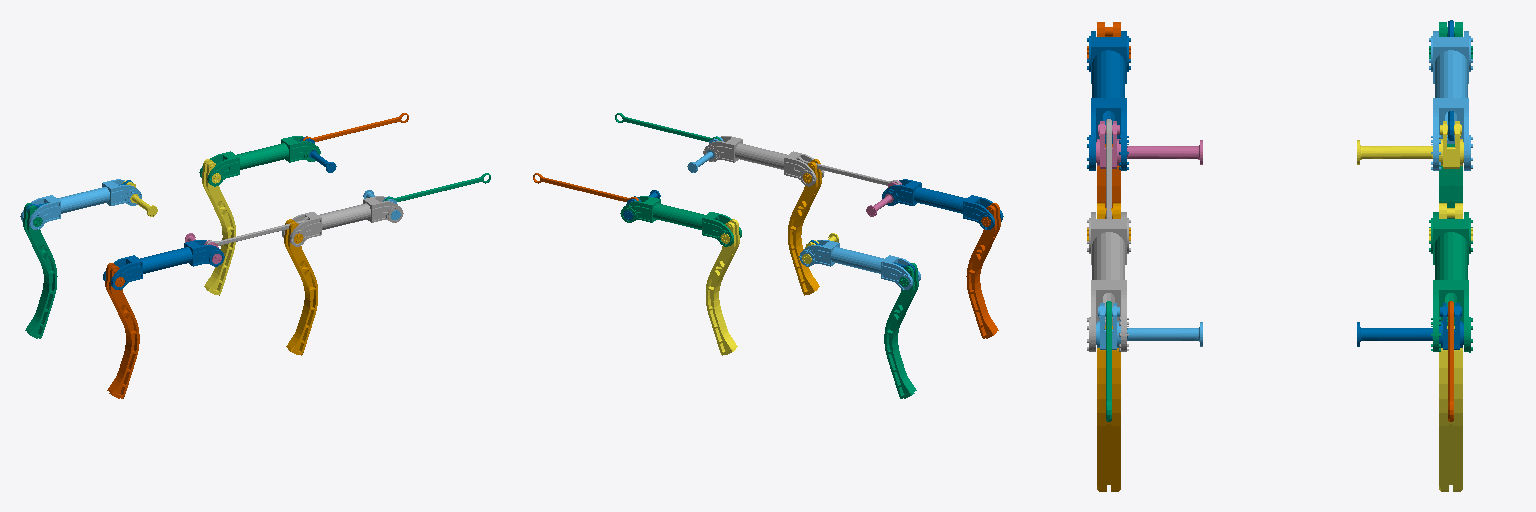
--- What the picture shows (computed from the rendered views, not written in the file) ---
The picture shows the robot from 3 angles, left to right: view 1: azimuth 30°, elevation 25°; view 2: azimuth 150°, elevation 25°; view 3: azimuth 270°, elevation 25°; orthographic projection.
Robot: aidinviii — 21 links, 20 joints (20 revolute); root link aidinviii_body; default pose: every joint at zero.
Links seen in each view (by area): view 1: RB_Hip, LF_Hip, RF_Hip, LB_Hip, RB_Knee, LB_Knee, RF_Knee, LF_Knee; view 2: LF_Hip, RB_Hip, LB_Hip, RF_Hip, RB_Knee, LF_Knee, LB_Knee, RF_Knee; view 3: LF_Hip, RB_Hip, RF_Hip, LB_Hip, LF_Knee, RF_Knee, LB_link1, RB_link1, LF_link1, RF_link1, LB_Knee, RB_Knee (+3 smaller).
Link boxes in pixels (left/top/right/bottom): RB_Hip: left=103, top=240, right=224, bottom=289; LF_Hip: left=199, top=136, right=320, bottom=186; RF_Hip: left=282, top=196, right=403, bottom=246; LB_Hip: left=20, top=179, right=141, bottom=229; RB_Knee: left=105, top=263, right=139, bottom=398; LB_Knee: left=23, top=203, right=57, bottom=338; RF_Knee: left=284, top=219, right=317, bottom=355; LF_Knee: left=202, top=159, right=235, bottom=295; LF_Hip: left=620, top=196, right=741, bottom=246; RB_Hip: left=882, top=179, right=1003, bottom=229; LB_Hip: left=799, top=240, right=920, bottom=289; RF_Hip: left=703, top=136, right=824, bottom=186; RB_Knee: left=966, top=203, right=1000, bottom=338; LF_Knee: left=706, top=219, right=739, bottom=355; LB_Knee: left=884, top=263, right=918, bottom=398; RF_Knee: left=788, top=159, right=821, bottom=295; LF_Hip: left=1429, top=212, right=1472, bottom=352; RB_Hip: left=1087, top=31, right=1130, bottom=170; RF_Hip: left=1087, top=212, right=1130, bottom=351; LB_Hip: left=1429, top=31, right=1472, bottom=170; LF_Knee: left=1429, top=203, right=1472, bottom=491; RF_Knee: left=1087, top=203, right=1130, bottom=491; LB_link1: left=1357, top=121, right=1463, bottom=168; RB_link1: left=1096, top=121, right=1202, bottom=168; LF_link1: left=1357, top=303, right=1463, bottom=349; RF_link1: left=1096, top=303, right=1202, bottom=349; LB_Knee: left=1429, top=22, right=1472, bottom=218; RB_Knee: left=1087, top=22, right=1130, bottom=218.
Size in the robot's own frame: 1.38 by 0.5794 by 0.4649 metres.
Meshes: 11 distinct files referenced, 16 mesh visuals loaded (6 binary STL); not drawn: 5 (reference not matched to a file when rendering).

URDF robot description (aidinviii):
<?xml version="1.0" ?>
<robot name="aidinviii">

  <!-- <link name="world"/> -->

<!--//////////////////////////////////////////L I N K S////////////////////////////////////////////////////-->
<!--/////////////////////////////////////////////Body/////////////////////////////////////////////////-->
  <link name="aidinviii_body">
    <inertial>
      <mass value="12.3188555"/>
      <origin xyz="0.00142 -0.00222 -0.04319" rpy="0 0 0"/>
      <inertia ixx="0.1104557116459" ixy="0.0002742627834" ixz="-0.0007826805716" iyy="0.2925866863396" iyz="-0.0018014327089" izz="0.3259809298915"/>
    </inertial>
    <collision name="body_1">
      <origin xyz="0.4174 0     1" rpy="0 0 0"/>
      <geometry>
        <box size="0.026 0.318 0.207"/>
      </geometry>
    </collision>
    <collision name="body_2">
      <origin xyz="-0.4174  0      1" rpy="0 0 0"/>
      <geometry>
        <box size="0.026 0.318 0.207"/>
      </geometry>
    </collision>
    <collision name="body_3">
      <origin xyz="0    0.119 1.085" rpy="0      1.57079 0"/>
      <geometry>
        <cylinder radius="0.0102" length="0.8848"/>
      </geometry>
    </collision>
    <collision name="body_4">
      <origin xyz="0    0.119 0.915" rpy="0      1.57079 0"/>
      <geometry>
        <cylinder radius="0.0102" length="0.8848"/>
      </geometry>
    </collision>
    <collision name="body_5">
      <origin xyz="0    -0.119  1.085" rpy="0      1.57079 0"/>
      <geometry>
        <cylinder radius="0.0102" length="0.8848"/>
      </geometry>
    </collision>
    <collision name="body_6">
      <origin xyz="0    -0.119  0.915" rpy="0      1.57079 0"/>
      <geometry>
        <cylinder radius="0.0102" length="0.8848"/>
      </geometry>
    </collision>
    <visual name="body_visual">
      <origin xyz="0 0 1" rpy="0 0 0"/>
      <geometry>
        <mesh filename="../meshes/meshes_surface/Body_AIDIN8.STL" scale="1 1 1"/>
      </geometry>
    </visual>
  </link>

<!--//////////////////////////////////////////////LF///////////////////////////////////////////////////////////-->

  <link name="LF_Scapular">
    <inertial>
      <mass value="6.3549628"/>
      <origin xyz="0.00223 -0.00011 -0.03491" rpy="0 0 0"/>
      <inertia ixx="0.0268822823205" ixy="0.0000315138420" ixz="-0.0010398645982" iyy="0.0388571979436" iyz="-0.0000013704590" izz="0.01899889911081"/>
    </inertial>
    <collision name="LF_col1">
      <origin xyz="0      0     -0.0507" rpy="0 0 0"/>
      <geometry>
        <cylinder length="0.2334" radius="0.0535"/>
      </geometry>
    </collision>
    <collision name="LF_col2">
      <origin rpy="0       1.57079  0" xyz="0.0083  0      0"/>
      <geometry>
        <cylinder length="0.1984" radius="0.0535"/>
      </geometry>
    </collision>
    <visual name="LF_vis11">
      <origin rpy="0  0  0" xyz="0  0  0"/>
      <geometry>
        <mesh filename="../meshes/meshes_surface/Leg_Scapular_LF_stp_v2.STL" scale="1 1 1"/>
      </geometry>
    </visual>
  </link>

  <link name="LF_Hip">
    <inertial>
      <mass value="0.8592967"/>
      <origin xyz="1.7531e-01 -1.4970e-02 -1.2000e-04" rpy="0 0 0"/>
      <inertia ixx="0.0007326198857" ixy="0.0000038940144" ixz="0.0000188178556" iyy="0.0157450190446" iyz="-0.0000015777889" izz="0.0157308802467"/>
    </inertial>
    <collision name="LF2_col1">
      <origin rpy="0  0  0" xyz="0  0  0"/>
      <geometry>
        <cylinder length="0.054" radius="0.027"/>
      </geometry>
    </collision>
    <collision name="LF2_col2">
      <origin rpy="0  0  0" xyz="0.055 -0.021  0"/>
      <geometry>
        <box size="0.06 0.06 0.054"/>
      </geometry>
    </collision>
    <collision name="LF2_col3">
      <origin rpy="0       1.57079  0" xyz="0.175 -0.021  0"/>
      <geometry>
        <cylinder length="0.18" radius="0.025"/>
      </geometry>
    </collision>
    <collision name="LF2_col4">
      <origin rpy="0  0  0" xyz="0.295 -0.021  0"/>
      <geometry>
        <box size="0.06 0.06 0.054"/>
      </geometry>
    </collision>
    <collision name="LF2_col5">
      <origin rpy="0  0  0" xyz="0.35    0      0.0245"/>
      <geometry>
        <cylinder length="0.011" radius="0.027"/>
      </geometry>
    </collision>
    <collision name="LF2_col6">
      <origin rpy="0  0  0" xyz="0.35    0     -0.0245"/>
      <geometry>
        <cylinder length="0.011" radius="0.027"/>
      </geometry>
    </collision>
    <visual name="LF2_vis11">
      <origin rpy="0  0  0" xyz="0  0  0"/>
      <geometry>
        <mesh filename="../meshes/meshes_surface/Leg_Hip_left_stp.STL" scale="1 1 1"/>
      </geometry>
    </visual>
  </link>

  <link name="LF_Knee">
    <inertial>
      <mass value="0.6608339"/>
      <origin xyz="0.12972 0.01155 0" rpy="0 0 0"/>
      <inertia ixx="0.0004751764324" ixy="0.0012723021758" ixz="-0.0000000145887" iyy="0.0121223799746" iyz="-0.0000000021118" izz="0.0123849356151"/>
    </inertial>
    <!-- <collision name="LF3_col1">
      <origin rpy="0  0  0" xyz="0  0  0"/>
      <geometry>
        <cylinder length="0.03" radius="0.02"/>
      </geometry>
    </collision>
    <collision name="LF3_col3">
      <origin rpy="0       0       0.41887" xyz="0.10075  0.02555  0"/>
      <geometry>
        <box size="0.17 0.035 0.036"/>
      </geometry>
    </collision>
    <collision name="LF3_col4">
      <origin rpy="0       0       0.05925" xyz="0.21091  0.0609   0"/>
      <geometry>
        <box size="0.0771692 0.035 0.036"/>
      </geometry>
    </collision>
    <collision name="LF3_col5">
      <origin rpy="0       0      -0.34906" xyz="0.32234  0.03518  0"/>
      <geometry>
        <box size="0.17 0.035 0.036"/>
      </geometry>
    </collision> -->
    <collision name="LF3_col6">
      <origin rpy="0  0  0" xyz="0.4  0   0"/>
      <!-- <geometry>
        <sphere radius="0.024"/>
      </geometry> -->
      <geometry>
        <cylinder length="0.036" radius="0.024"/>
      </geometry>
    </collision>
    <visual name="LF3_vis11">
      <origin rpy="0  0  0" xyz="0  0  0"/>
      <geometry>
        <mesh filename="../meshes/meshes_surface/Leg_Knee_stp.STL" scale="1 1 1"/>
      </geometry>
    </visual>
  </link>

  <link name="LF_link1">
    <inertial>
      <mass value="0.356529"/>
      <origin xyz="0.00728 -0.00049  0.03154" rpy="0 0 0"/>
      <inertia ixx="0.0009733125313" ixy="0.0000022519068" ixz="-0.0000814612402" iyy="0.0010405526310" iyz="0.0000057129200" izz="0.0001182849391"/>
    </inertial>
    <visual name="LF_link1_vis1">
      <origin rpy="0  0  0" xyz="0  0  0"/> 
      <geometry>
        <mesh filename="../meshes/meshes_surface/Knee_link1_left_stp.STL" scale="1 1 1"/>
      </geometry>
    </visual>
  </link>

  <link name="LF_link2">
    <inertial>
      <mass value="0.20931"/>
      <origin rpy="0  0  0" xyz="0.175  0     0"/>
      <inertia ixx="0.00000747991" ixy="0" ixz="0" iyy="0.00238918720" iyz="0" izz="0.00239407889"/>
    </inertial>
    <visual name="LF_link2_vis1">
      <origin xyz="-0.35  0    0" rpy="0 0 0"/>
      <geometry>
        <mesh filename="../meshes/meshes_surface/Knee_link2_stp.STL" scale="1 1 1"/>
      </geometry>
    </visual>
  </link>

<!--//////////////////////////////////////////////RF///////////////////////////////////////////////////////////-->
  <link name="RF_Scapular">
    <inertial>
      <mass value="6.3549628"/>
      <origin xyz="2.22e-03 -7.00e-05 -3.49e-02" rpy="0 0 0"/>
      <inertia ixx="0.0268838092963" ixy="-0.0000090031909" ixz="0.0010319405579" iyy="0.0388589753376" iyz="0.0000168509340" izz="0.0189992476926"/>
    </inertial>
    <collision name="RF_col1">
      <origin rpy="0  0  0" xyz="0      0     -0.0507"/>
      <geometry>
        <cylinder length="0.2334" radius="0.0535"/>
      </geometry>
    </collision>
    <collision name="RF_col2">
      <origin rpy="0       1.57079  0" xyz="0.0083  0      0"/>
      <geometry>
        <cylinder length="0.1984" radius="0.0535"/>
      </geometry>
    </collision>
    <visual name="RF_vis1">
      <origin rpy="0  0  0" xyz="0  0  0"/>
      <geometry>
        <mesh filename="../meshes/meshes_surface/Leg_Scapular_RF_stp_v2.STL" scale="1 1 1"/>
      </geometry>
    </visual>
  </link>
  <link name="RF_Hip">
    <inertial>
      <mass value="0.8592967"/>
      <origin xyz="1.7531e-01 -1.4970e-02  1.2000e-04" rpy="0 0 0"/>
      <inertia ixx="0.0007326198866" ixy="0.0000038940144" ixz="-0.0000188175364" iyy="0.0157450190455" iyz="0.0000015777233" izz="0.0157308802469"/>
    </inertial>
    <collision name="RF2_col1">
      <origin xyz="0.175 0    0" rpy="0      1.57079 0"/>
      <geometry>
        <cylinder radius="0.01" length="0.175"/>
      </geometry>
    </collision>
    <collision name="RF2_col2">
      <origin xyz="0.055 -0.021  0" rpy="0 0 0"/>
      <geometry>
        <box size="0.06 0.06 0.054"/>
      </geometry>
    </collision>
    <collision name="RF2_col3">
      <origin xyz="0.175 -0.021  0" rpy="0      1.57079 0"/>
      <geometry>
        <cylinder radius="0.025" length="0.18"/>
      </geometry>
    </collision>
    <collision name="RF2_col4">
      <origin xyz="0.295 -0.021  0" rpy="0 0 0"/>
      <geometry>
        <box size="0.06 0.06 0.054"/>
      </geometry>
    </collision>
    <collision name="RF2_col5">
      <origin xyz="0.35   0     0.0245" rpy="0 0 0"/>
      <geometry>
        <cylinder radius="0.027" length="0.011"/>
      </geometry>
    </collision>
    <collision name="RF2_col6">
      <origin xyz="0.35    0     -0.0245" rpy="0 0 0"/>
      <geometry>
        <cylinder radius="0.027" length="0.011"/>
      </geometry>
    </collision>
    <visual name="RF2_vis1">
      <origin rpy="0  0  0" xyz="0  0  0"/>
      <geometry>
        <mesh filename="../meshes/meshes_surface/Leg_Hip_right_stp.STL" scale="1 1 1"/>
      </geometry>
    </visual>
  </link>
  <link name="RF_Knee">
    <inertial>
      <mass value="0.6608339"/>
      <origin xyz="0.12972 0.01155 0" rpy="0 0 0"/>
      <inertia ixx="0.0004751764324" ixy="0.0012723021758" ixz="-0.0000000145887" iyy="0.0121223799746" iyz="-0.0000000021118" izz="0.0123849356151"/>
    </inertial>
    <collision name="RF3_col6">
      <origin xyz="0.4 0  0" rpy="0 0 0"/>
      <geometry>
        <sphere radius="0.024"/>
      </geometry>
    </collision>
    <visual name="RF3_vis11">
      <origin rpy="0  0  0" xyz="0  0  0"/>
      <geometry>
        <mesh filename="../meshes/meshes_surface/Leg_Knee_stp.STL" scale="1 1 1"/>
      </geometry>
    </visual>
  </link>
  <link name="RF_link1">
    <inertial>
      <mass value="0.356529"/>
      <origin xyz="0.00726 -0.00049 -0.03152" rpy="0 0 0"/>
      <inertia ixx="0.0009737671712" ixy="0.0000021895727" ixz="0.0000821138402" iyy="0.0010410742162" iyz="-0.0000057093198" izz="0.0001183464867"/>
    </inertial>
    <visual name="RF_link1_vis1">
      <origin xyz="0 0 0" rpy="0 0 0"/>
      <geometry>
        <mesh filename="../meshes/meshes_surface/Knee_link1_right_stp.STL" scale="1 1 1"/>
      </geometry>
    </visual>
  </link>
  <link name="RF_link2">
    <inertial>
      <mass value="0.20931"/>
      <origin xyz="0.175 0    0" rpy="0 0 0"/>
      <inertia ixx="0.00000747991" ixy="0" ixz="0" iyy="0.00238918720" iyz="0" izz="0.00239407889"/>
    </inertial>
    <visual name="RF_link2_vis1">
      <origin xyz="-0.35  0    0" rpy="0 0 0"/>
      <geometry>
        <mesh filename="../meshes/meshes_surface/Knee_link2_stp.STL" scale="1 1 1"/>
      </geometry>
    </visual>
  </link>

<!--//////////////////////////////////////////////RB///////////////////////////////////////////////////////////-->
  <link name="RB_Scapular">
    <inertial>
      <mass value="6.3549628"/>
      <origin xyz="0.00223 0.00011 0.03491" rpy="0 0 0"/>
      <inertia ixx="0.0268822823505" ixy="-0.0000315138420" ixz="-0.0010398645982" iyy="0.0388571979436" iyz="-0.0000013704590" izz="0.0189988991081"/>
    </inertial>
    <collision name="RB_col1">
      <origin rpy="0  0  0" xyz="0      0      0.0507"/>
      <geometry>
        <cylinder length="0.2334" radius="0.0535"/>
      </geometry>
    </collision>
    <collision name="RB_col2">
      <origin rpy="0       1.57079  0" xyz="0.0083  0      0"/>
      <geometry>
        <cylinder length="0.1984" radius="0.0535"/>
      </geometry>
    </collision>
    <visual name="RB_vis11">
      <origin rpy="0  0  0" xyz="0  0  0"/>
      <geometry>
        <mesh filename="../meshes/meshes_surface/Leg_Scapular_RR_stp_v2.STL" scale="1 1 1"/>
      </geometry>
    </visual>
  </link>
  <link name="RB_Hip">
    <inertial>
      <mass value="0.8592967"/>
      <origin xyz="1.7531e-01 -1.4970e-02  1.2000e-04" rpy="0 0 0"/>
      <inertia ixx="0.0007326198866" ixy="0.0000038940144" ixz="-0.0000188175364" iyy="0.0157450190455" iyz="0.0000015777233" izz="0.0157308802469"/>
    </inertial>
    <collision name="RB2_col1">
      <origin rpy="0  0  0" xyz="0  0  0"/>
      <geometry>
        <cylinder length="0.054" radius="0.027"/>
      </geometry>
    </collision>
    <collision name="RB2_col2">
      <origin rpy="0  0  0" xyz="0.055 -0.021  0"/>
      <geometry>
        <box size="0.06 0.06 0.054"/>
      </geometry>
    </collision>
    <collision name="RB2_col3">
      <origin rpy="0       1.57079  0" xyz="0.175 -0.021  0"/>
      <geometry>
        <cylinder length="0.18" radius="0.025"/>
      </geometry>
    </collision>
    <collision name="RB2_col4">
      <origin rpy="0  0  0" xyz="0.295 -0.021  0"/>
      <geometry>
        <box size="0.06 0.06 0.054"/>
      </geometry>
    </collision>
    <collision name="RB2_col5">
      <origin rpy="0  0  0" xyz="0.35    0      0.0245"/>
      <geometry>
        <cylinder length="0.011" radius="0.027"/>
      </geometry>
    </collision>
    <collision name="RB2_col6">
      <origin rpy="0  0  0" xyz="0.35    0     -0.0245"/>
      <geometry>
        <cylinder length="0.011" radius="0.027"/>
      </geometry>
    </collision>
    <visual name="RB2_vis1">
      <origin rpy="0  0  0" xyz="0  0  0"/>
      <geometry>
        <mesh filename="../meshes/meshes_surface/Leg_Hip_right_stp.STL" scale="1 1 1"/>
      </geometry>
    </visual>
  </link>
  <link name="RB_Knee">
    <inertial>
      <mass value="0.6608339"/>
      <origin xyz="0.12972 0.01155 0" rpy="0 0 0"/>
      <inertia ixx="0.0004751764324" ixy="0.0012723021758" ixz="-0.0000000145887" iyy="0.0121223799746" iyz="-0.0000000021118" izz="0.0123849356151"/>
    </inertial>
    <collision name="RB3_col6">
      <origin xyz="0.4 0  0" rpy="0 0 0"/>
      <geometry>
        <sphere radius="0.024"/>
      </geometry>
    </collision>
    <visual name="RB3_vis1">
      <origin rpy="0  0  0" xyz="0  0  0"/>
      <geometry>
        <mesh filename="../meshes/meshes_surface/Leg_Knee_stp.STL" scale="1 1 1"/>
      </geometry>
    </visual>
  </link>
  <link name="RB_link1">
    <inertial>
      <mass value="0.356529"/>
      <origin xyz="0.00726 -0.00049 -0.03152" rpy="0 0 0"/>
      <inertia ixx="0.0009737671712" ixy="0.0000021895727" ixz="0.0000821138402" iyy="0.0010410742162" iyz="-0.0000057093198" izz="0.0001183464867"/>
    </inertial>
    <visual name="RB_link1_vis1">
      <origin xyz="0 0 0" rpy="0 0 0"/>
      <geometry>
        <mesh filename="../meshes/meshes_surface/Knee_link1_right_stp.STL" scale="1 1 1"/>
      </geometry>
    </visual>
  </link>
  <link name="RB_link2">
    <inertial>
      <mass value="0.20931"/>
      <origin xyz="0.175 0    0" rpy="0 0 0"/>
      <inertia ixx="0.00000747991" ixy="0" ixz="0" iyy="0.00238918720" iyz="0" izz="0.00239407889"/>
    </inertial>
    <visual name="RB_link2_vis1">
      <origin xyz="-0.35  0    0" rpy="0 0 0"/>
      <geometry>
        <mesh filename="../meshes/meshes_surface/Knee_link2_stp.STL" scale="1 1 1"/>
      </geometry>
    </visual>
  </link>

<!--//////////////////////////////////////////////LB///////////////////////////////////////////////////////////-->

  <link name="LB_Scapular">
    <inertial>
      <mass value="6.3549628"/>
      <origin xyz="2.22e-03 -7.00e-05  3.49e-02" rpy="0 0 0"/>
      <inertia ixx="0.0268838092963" ixy="0.0000090031909" ixz="-0.0010319405579" iyy="0.0388589753376" iyz="0.0000168509340" izz="0.0189992476926"/>
    </inertial>
    <collision name="LB_col1">
      <origin rpy="0  0  0" xyz="0      0      0.0507"/>
      <geometry>
        <cylinder length="0.2334" radius="0.0535"/>
      </geometry>
    </collision>
    <collision name="LB_col2">
      <origin rpy="0       1.57079  0" xyz="0.0083  0      0"/>
      <geometry>
        <cylinder length="0.1984" radius="0.0535"/>
      </geometry>
    </collision>
    <visual name="LB_vis11">
      <origin rpy="0  0  0" xyz="0  0  0"/>
      <geometry>
        <mesh filename="../meshes/meshes_surface/Leg_Scapular_LR_stp_v2.STL" scale="1 1 1"/>
      </geometry>
    </visual>
  </link>
  <link name="LB_Hip">
    <inertial>
      <mass value="0.8592967"/>
      <origin xyz="1.7531e-01 -1.4970e-02 -1.2000e-04" rpy="0 0 0"/>
      <inertia ixx="0.0007326198857" ixy="0.0000038940144" ixz="0.0000188178556" iyy="0.0157450190446" iyz="-0.0000015777889" izz="0.0157308802467"/>
    </inertial>
    <collision name="LB2_col1">
      <origin rpy="0  0  0" xyz="0  0  0"/>
      <geometry>
        <cylinder length="0.054" radius="0.027"/>
      </geometry>
    </collision>
    <collision name="LB2_col2">
      <origin rpy="0  0  0" xyz="0.055 -0.021  0"/>
      <geometry>
        <box size="0.06 0.06 0.054"/>
      </geometry>
    </collision>
    <collision name="LB2_col3">
      <origin rpy="0       1.57079  0" xyz="0.175 -0.021  0"/>
      <geometry>
        <cylinder length="0.18" radius="0.025"/>
      </geometry>
    </collision>
    <collision name="LB2_col4">
      <origin rpy="0  0  0" xyz="0.295 -0.021  0"/>
      <geometry>
        <box size="0.06 0.06 0.054"/>
      </geometry>
    </collision>
    <collision name="LB2_col5">
      <origin rpy="0  0  0" xyz="0.35    0      0.0245"/>
      <geometry>
        <cylinder length="0.011" radius="0.027"/>
      </geometry>
    </collision>
    <collision name="LB2_col6">
      <origin rpy="0  0  0" xyz="0.35    0     -0.0245"/>
      <geometry>
        <cylinder length="0.011" radius="0.027"/>
      </geometry>
    </collision>
    <visual name="LB2_vis11">
      <origin rpy="0  0  0" xyz="0  0  0"/>
      <geometry>
        <mesh filename="../meshes/meshes_surface/Leg_Hip_left_stp.STL" scale="1 1 1"/>
      </geometry>
    </visual>
  </link>
  <link name="LB_Knee">
    <inertial>
      <mass value="0.6608339"/>
      <origin xyz="0.12972 0.01155 0" rpy="0 0 0"/>
      <inertia ixx="0.0004751764324" ixy="0.0012723021758" ixz="-0.0000000145887" iyy="0.0121223799746" iyz="-0.0000000021118" izz="0.0123849356151"/>
    </inertial>
    <collision name="LB3_col6">
      <origin xyz="0.4 0  0" rpy="0 0 0"/>
      <geometry>
        <sphere radius="0.024"/>
      </geometry>
    </collision>
    <visual name="LB3_visual">
      <origin rpy="0  0  0" xyz="0  0  0"/>
      <geometry>
        <mesh filename="../meshes/meshes_surface/Leg_Knee_stp.STL" scale="1 1 1"/>
      </geometry>
    </visual>
  </link>
  <link name="LB_link1">
    <inertial>
      <mass value="0.356529"/>
      <origin xyz="0.00728 -0.00049  0.03154" rpy="0 0 0"/>
      <inertia ixx="0.0009733125313" ixy="0.0000022519068" ixz="-0.0000814612402" iyy="0.0010405526310" iyz="0.0000057129200" izz="0.0001182849391"/>
    </inertial>
    <visual name="LB_link1_vis1">
      <origin rpy="0  0  0" xyz="0  0  0"/>
      <geometry>
        <mesh filename="../meshes/meshes_surface/Knee_link1_left_stp.STL" scale="1 1 1"/>
      </geometry>
    </visual>
  </link>
  <link name="LB_link2">
    <inertial>
      <mass value="0.20931"/>
      <origin rpy="0  0  0" xyz="0.175  0     0"/>
      <inertia ixx="0.00000747991" ixy="0" ixz="0" iyy="0.00238918720" iyz="0" izz="0.00239407889"/>
    </inertial>
    <visual name="LB_link2_vis1">
      <origin rpy="0  0  0" xyz="0  0    0"/>
      <geometry>
        <mesh filename="../meshes/meshes_surface/Knee_link2_stp.STL" scale="1 1 1"/>
      </geometry>
    </visual>
  </link>

<!--//////////////////////////////////////////J O I N T S////////////////////////////////////////////////////-->

  <!-- <joint name="fixed" type="fixed">
    <parent link="world"/>
    <child link="aidinviii_body"/>
  </joint> -->

  <joint name="RFJ1" type="revolute">
    <parent link="aidinviii_body"/>
    <child link="RF_Scapular"/>
    <origin xyz="0.3224 -0.119   1" rpy="-1.57079  0      -1.57079"/>
    <axis xyz="0  0  1"/>
    <limit lower="-0.6981317008" upper="0.6981317008" effort="200.0" velocity="15.5"/>
  </joint>
  <joint name="RFJ2" type="revolute">
    <parent link="RF_Scapular"/>
    <child link="RF_Hip"/>
    <origin xyz="0.13769 0      0" rpy="1.58259  1.57079 1.58259"/>
    <axis xyz="0  0  1"/>
    <limit lower="-10.0" upper="10.0" effort="200.0" velocity="15.5"/>
  </joint>
  <joint name="RFJ3" type="revolute">
    <parent link="RF_Scapular"/>
    <child link="RF_link1"/>
    <origin xyz="0.13769 0      0" rpy="-1.57079  0.17453 -1.57079"/>
    <axis xyz="0 0 1"/>
    <limit lower="-10.0" upper="10.0" effort="200.0" velocity="15.5"/>
  </joint>
  <joint name="RFJ4" type="revolute">
    <parent link="RF_Hip"/>
    <child link="RF_Knee"/>
    <origin xyz="0.35 0   0" rpy="0      0      1.57079"/>
    <axis xyz="0 0 1"/>
    <limit lower="-1.047197551" upper="1.570796327" effort="200.0" velocity="15.5"/>
  </joint>
  <joint name="RFJ5" type="revolute"> 
    <parent link="RF_link1"/>
    <child link="RF_link2"/>
    <origin xyz="0.035 0    0" rpy="0      0      1.39626"/>
    <axis xyz="0 0 1"/>
    <limit lower="-10.0" upper="10.0" effort="200.0" velocity="15.5"/>
  </joint>

  <joint name="LFJ1" type="revolute">
    <parent link="aidinviii_body"/>
    <child link="LF_Scapular"/>
    <origin xyz="0.3224 0.119  1" rpy="1.57079 0      1.57079"/>
    <axis xyz="0 0 1"/>
    <limit lower="-0.6981317008" upper="0.6981317008" effort="200.0" velocity="15.5"/>
  </joint>
  <joint name="LFJ2" type="revolute">
    <parent link="LF_Scapular"/>
    <child link="LF_Hip"/> 
    <origin xyz="0.13769 0      0" rpy="1.559    1.57079  -1.58259"/>
    <axis xyz="0 0 1"/>
    <limit lower="-10.0" upper="10.0" effort="200.0" velocity="15.5"/>
  </joint>
  <joint name="LFJ3" type="revolute">
    <parent link="LF_Scapular"/>
    <child link="LF_link1"/>
    <origin xyz="0.13769 0      0" rpy="-1.57079  0.17453  1.57079"/>
    <axis xyz="0 0 1"/>
    <limit lower="-10.0" upper="10.0" effort="200.0" velocity="15.5"/>
  </joint>
  <joint name="LFJ4" type="revolute">
    <parent link="LF_Hip"/>
    <child link="LF_Knee"/>
    <origin xyz="0.35 0   0" rpy="0      0      1.57079"/>
    <axis xyz="0 0 1"/>
    <limit lower="-1.047197551" upper="1.570796327" effort="200.0" velocity="15.5"/>
  </joint>
  <joint name="LFJ5" type="revolute">
    <parent link="LF_link1"/>
    <child link="LF_link2"/>
    <origin xyz="0.035 0    0" rpy="0      0      1.39626"/>
    <axis xyz="0 0 1"/>
    <limit lower="-10.0" upper="10.0" effort="200.0" velocity="15.5"/>
  </joint>

  <joint name="LBJ1" type="revolute">
    <parent link="aidinviii_body"/>
    <child link="LB_Scapular"/>
    <origin xyz="-0.3224  0.119   1" rpy="1.57079 0      1.57079"/>
    <axis xyz="0 0 1"/>
    <limit lower="-0.6981317008" upper="0.6981317008" effort="200.0" velocity="15.5"/>
  </joint>
  <joint name="LBJ2" type="revolute">
    <parent link="LB_Scapular"/>
    <child link="LB_Hip"/>
    <origin xyz="0.13769 0      0" rpy="1.559    1.57079  -1.58259"/>
    <axis xyz="0 0 1"/>
    <limit lower="-10.0" upper="10.0" effort="200.0" velocity="15.5"/>
  </joint>
  <joint name="LBJ3" type="revolute">
    <parent link="LB_Scapular"/>
    <child link="LB_link1"/>
    <origin xyz="0.13769 0      0" rpy="-1.57079  0.17453  1.57079"/>
    <axis xyz="0 0 1"/>
    <limit lower="-10.0" upper="10.0" effort="200.0" velocity="15.5"/>
  </joint>
  <joint name="LBJ4" type="revolute">
    <parent link="LB_Hip"/>
    <child link="LB_Knee"/>
    <origin xyz="0.35 0   0" rpy="0      0      1.57079"/>
    <axis xyz="0 0 1"/>
    <limit lower="-1.047197551" upper="1.570796327" effort="200.0" velocity="15.5"/>
  </joint>
  <joint name="LBJ5" type="revolute">
    <parent link="LB_link1"/>
    <child link="LB_link2"/>
    <origin xyz="0.035 0    0" rpy="0      0      1.39626"/>
    <axis xyz="0 0 1"/>
    <limit lower="-10.0" upper="10.0" effort="200.0" velocity="15.5"/>
  </joint>

  <joint name="RBJ1" type="revolute">
    <parent link="aidinviii_body"/>
    <child link="RB_Scapular"/>
    <origin xyz="-0.3224 -0.119   1" rpy="-1.57079  0      -1.57079"/>
    <axis xyz="0 0 1"/>
    <limit lower="-0.6981317008" upper="0.6981317008" effort="200.0" velocity="15.5"/>
  </joint>
  <joint name="RBJ2" type="revolute">
    <parent link="RB_Scapular"/>
    <child link="RB_Hip"/>
    <origin xyz="0.13769 0      0" rpy="1.58259  1.57079 1.58259"/>
    <axis xyz="0 0 1"/>
    <limit lower="-10.0" upper="10.0" effort="200.0" velocity="15.5"/>
  </joint>
  <joint name="RBJ3" type="revolute">
    <parent link="RB_Scapular"/>
    <child link="RB_link1"/>
    <origin xyz="0.13769 0      0" rpy="-1.57079  0.17453 -1.57079"/>
    <axis xyz="0 0 1"/>
    <limit lower="-10.0" upper="10.0" effort="200.0" velocity="15.5"/>
  </joint>
  <joint name="RBJ4" type="revolute">
    <parent link="RB_Hip"/>
    <child link="RB_Knee"/>
    <origin xyz="0.35 0   0" rpy="0      0      1.57079"/>
    <axis xyz="0 0 1"/>
    <limit lower="-1.047197551" upper="1.570796327" effort="200.0" velocity="15.5"/>
  </joint>
  <joint name="RBJ5" type="revolute">
    <parent link="RB_link1"/>
    <child link="RB_link2"/>
    <origin xyz="0.035 0    0" rpy="0      0      1.39626"/>
    <axis xyz="0 0 1"/>
    <limit lower="-10.0" upper="10.0" effort="200.0" velocity="15.5"/>
  </joint>

</robot>
